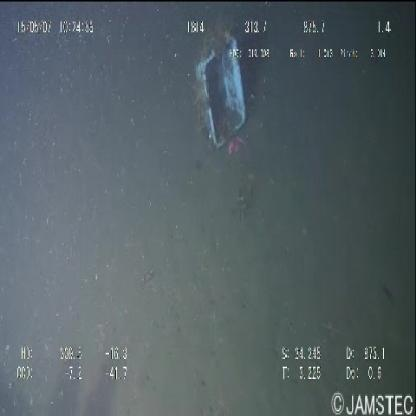Rác: (192, 30, 250, 160)
